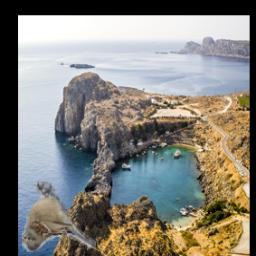Sparrow: (22, 181, 96, 252)
